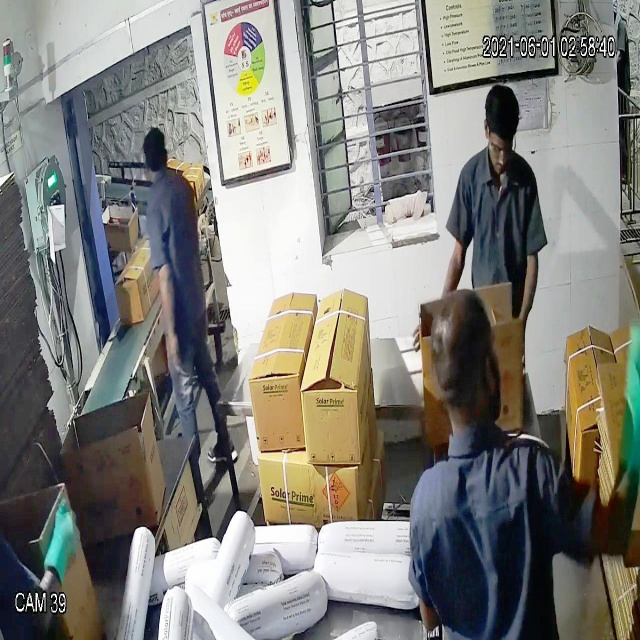Sin_gafas: (482, 122, 520, 165)
